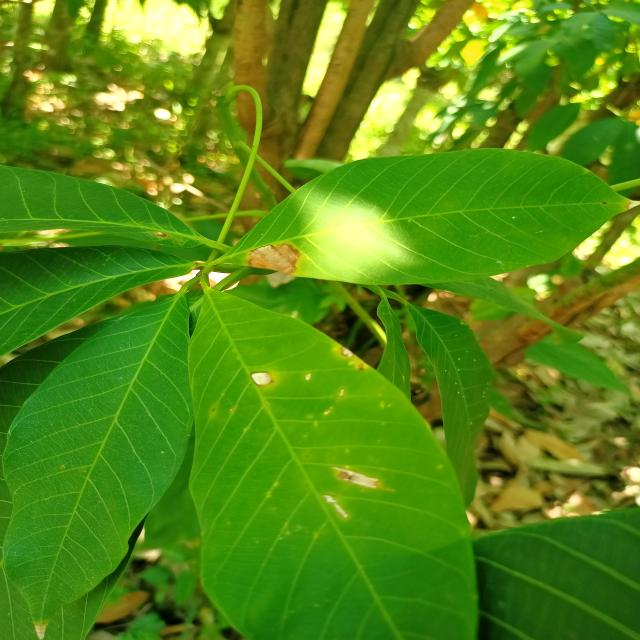Colletotrichum: (211, 408, 215, 411)
Leaf-Blight: (247, 244, 301, 275), (332, 466, 378, 488), (322, 494, 348, 518), (250, 372, 272, 386), (341, 345, 353, 357), (629, 199, 640, 209)
